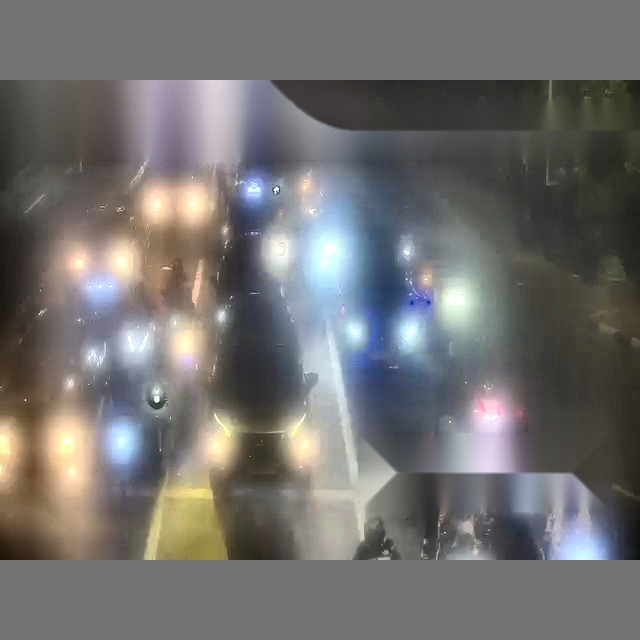Motor: (168, 312, 200, 382)
